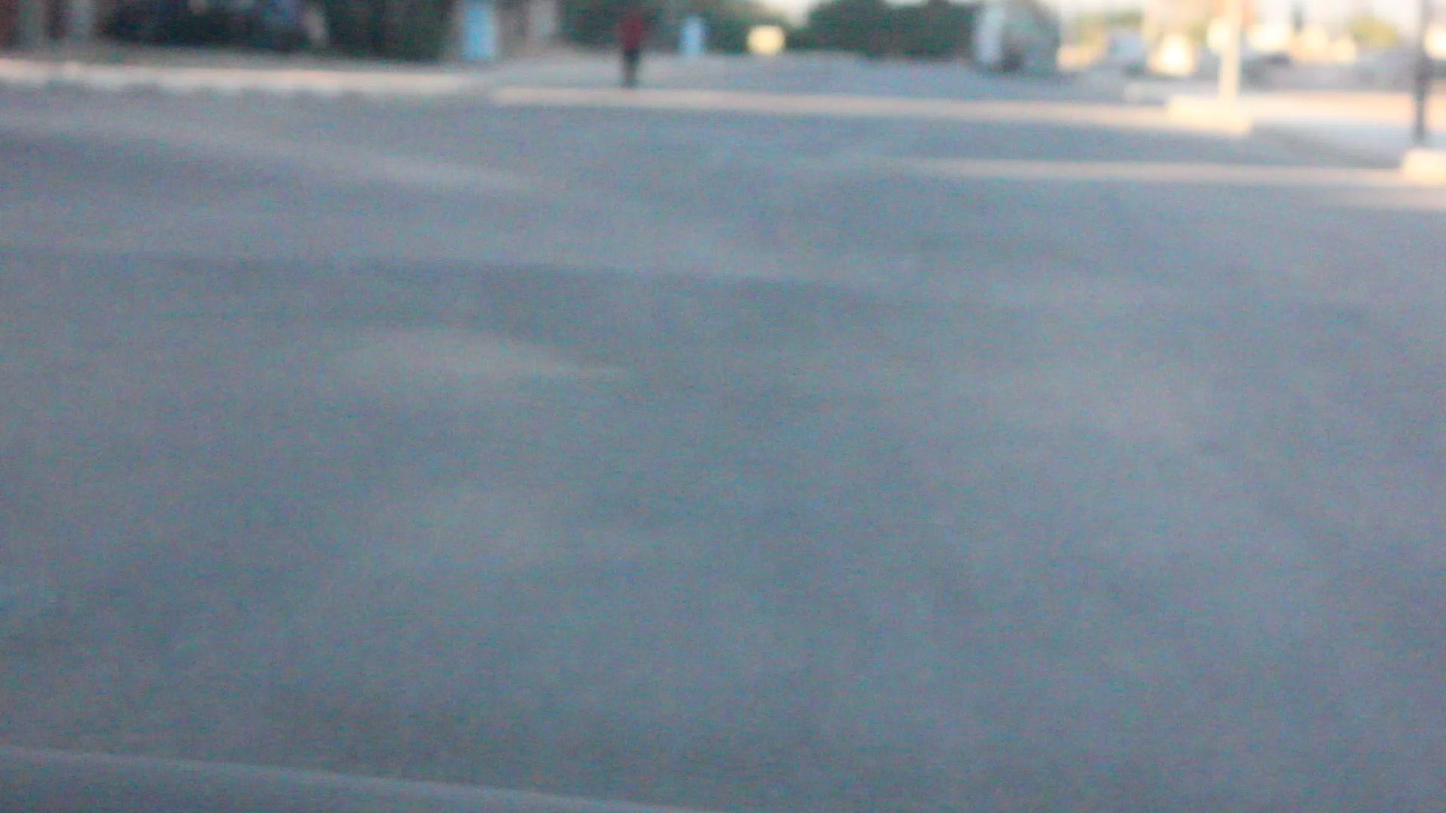Bump: (0, 245, 1446, 395)
